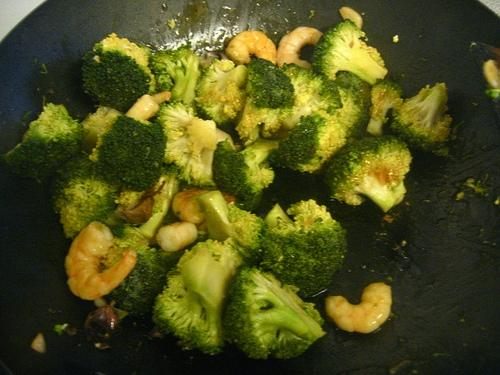broccoli: (152, 239, 253, 356), (222, 263, 328, 360), (256, 199, 348, 298), (152, 100, 242, 189), (101, 234, 199, 315), (323, 134, 413, 214), (48, 152, 125, 242), (81, 32, 157, 113), (90, 115, 168, 192), (194, 190, 268, 268), (234, 58, 296, 148), (268, 110, 352, 176), (307, 18, 389, 85), (386, 82, 454, 156), (21, 102, 84, 180), (212, 138, 278, 212), (281, 63, 344, 130), (147, 41, 203, 113), (193, 58, 248, 126), (327, 70, 372, 142), (365, 78, 404, 136), (80, 107, 124, 154), (482, 60, 500, 99)
